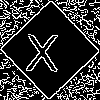X: (25, 25, 59, 71)
